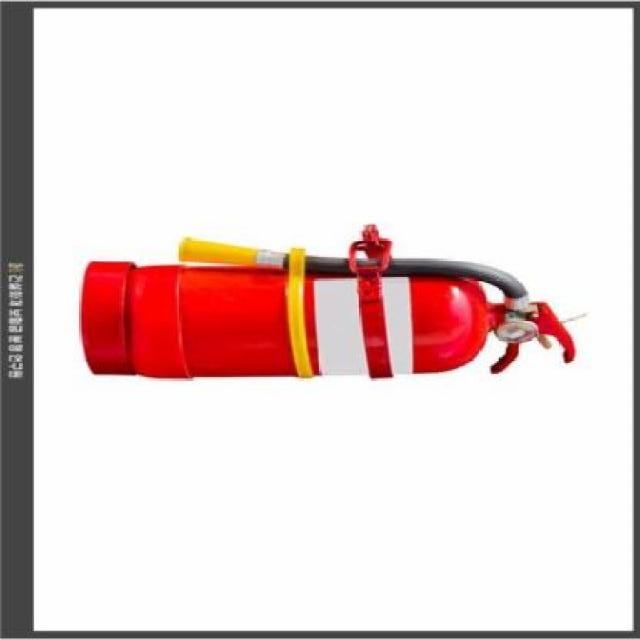fire extinguisher: (80, 225, 575, 380)
